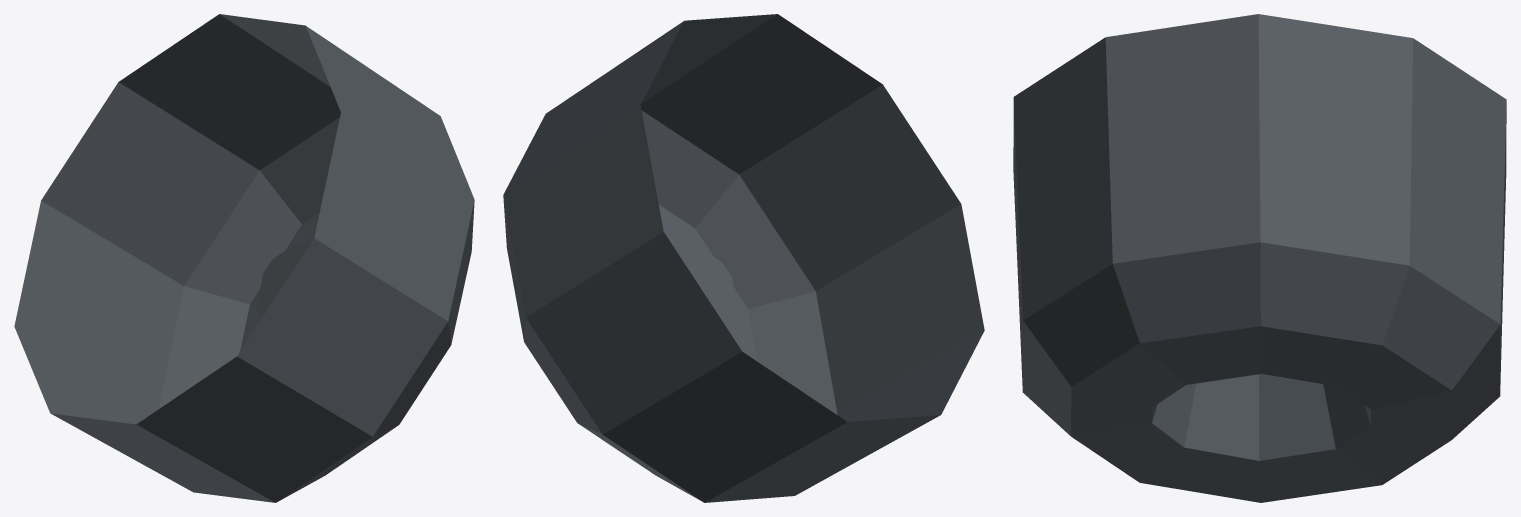
File: Personal_Vehicle_02_Detail_3_Blue.fbx
3 renders of one model, left to right at view 1: azimuth 30°, elevation 25°; view 2: azimuth 150°, elevation 25°; view 3: azimuth 270°, elevation 25°, orthographic. The views are drawn at different scales.
Parts seen in each view (by area): view 1: Personal_Vehicle_02_Detail_3_Blue; view 2: Personal_Vehicle_02_Detail_3_Blue; view 3: Personal_Vehicle_02_Detail_3_Blue.
Part boxes in pixels (box(x1,y1,x2,y2)): Personal_Vehicle_02_Detail_3_Blue: box(14, 14, 474, 502); Personal_Vehicle_02_Detail_3_Blue: box(503, 14, 984, 502); Personal_Vehicle_02_Detail_3_Blue: box(1013, 14, 1506, 502).
Size of the model in its own units: 14.04 by 15.01 by 12.72.
1 material, 1 textured.
